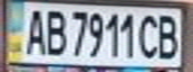1: (118, 10, 139, 58), (103, 10, 121, 58)
7: (66, 7, 87, 57)
9: (84, 9, 106, 57)
A: (21, 4, 48, 56)
B: (154, 10, 184, 61), (42, 6, 69, 56)
C: (136, 10, 160, 60)
